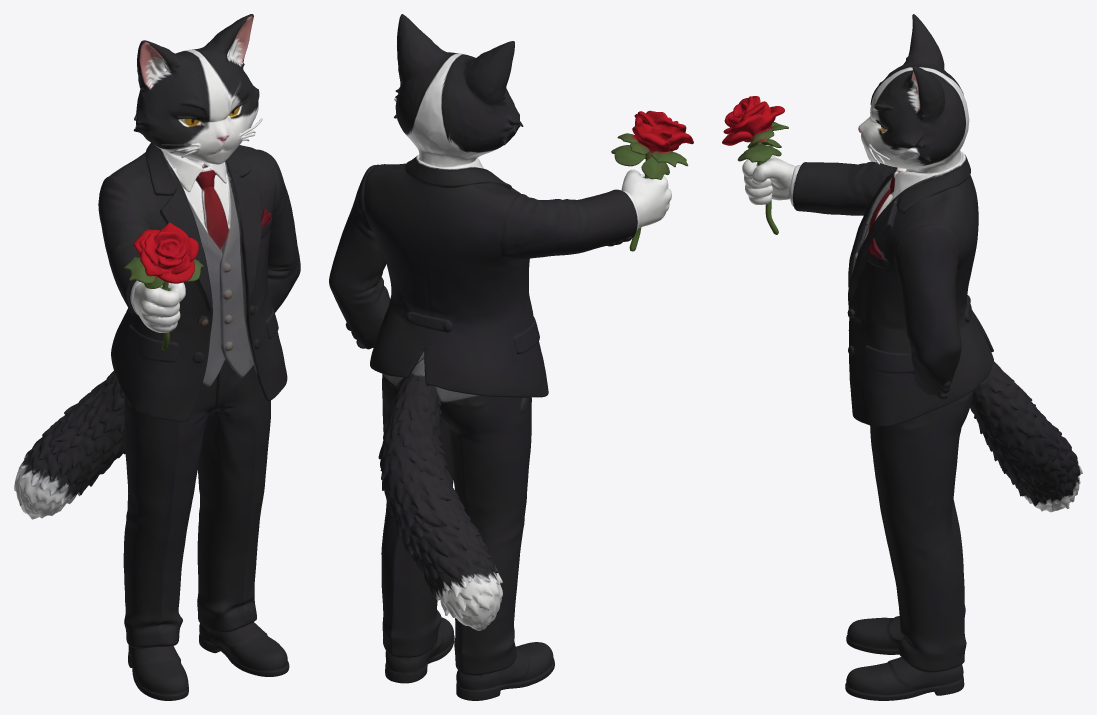
File: idol-model-cat.glb
3 views of the same model, side by side, from view 1: azimuth 30°, elevation 25°; view 2: azimuth 150°, elevation 25°; view 3: azimuth 270°, elevation 25° (orthographic). The views are drawn at different scales.
Parts seen in each view (by area): view 1: tripo_node_09a83d66-9011-426d-93c1-e79b06646c29; view 2: tripo_node_09a83d66-9011-426d-93c1-e79b06646c29; view 3: tripo_node_09a83d66-9011-426d-93c1-e79b06646c29.
Boxes of the visible parts, x1=… form: tripo_node_09a83d66-9011-426d-93c1-e79b06646c29: x1=14, y1=14, x2=300, y2=700; tripo_node_09a83d66-9011-426d-93c1-e79b06646c29: x1=329, y1=14, x2=693, y2=700; tripo_node_09a83d66-9011-426d-93c1-e79b06646c29: x1=722, y1=14, x2=1082, y2=700.
Size of the model in its own units: 0.4233 by 1 by 0.5201.
1 material, 1 textured.
